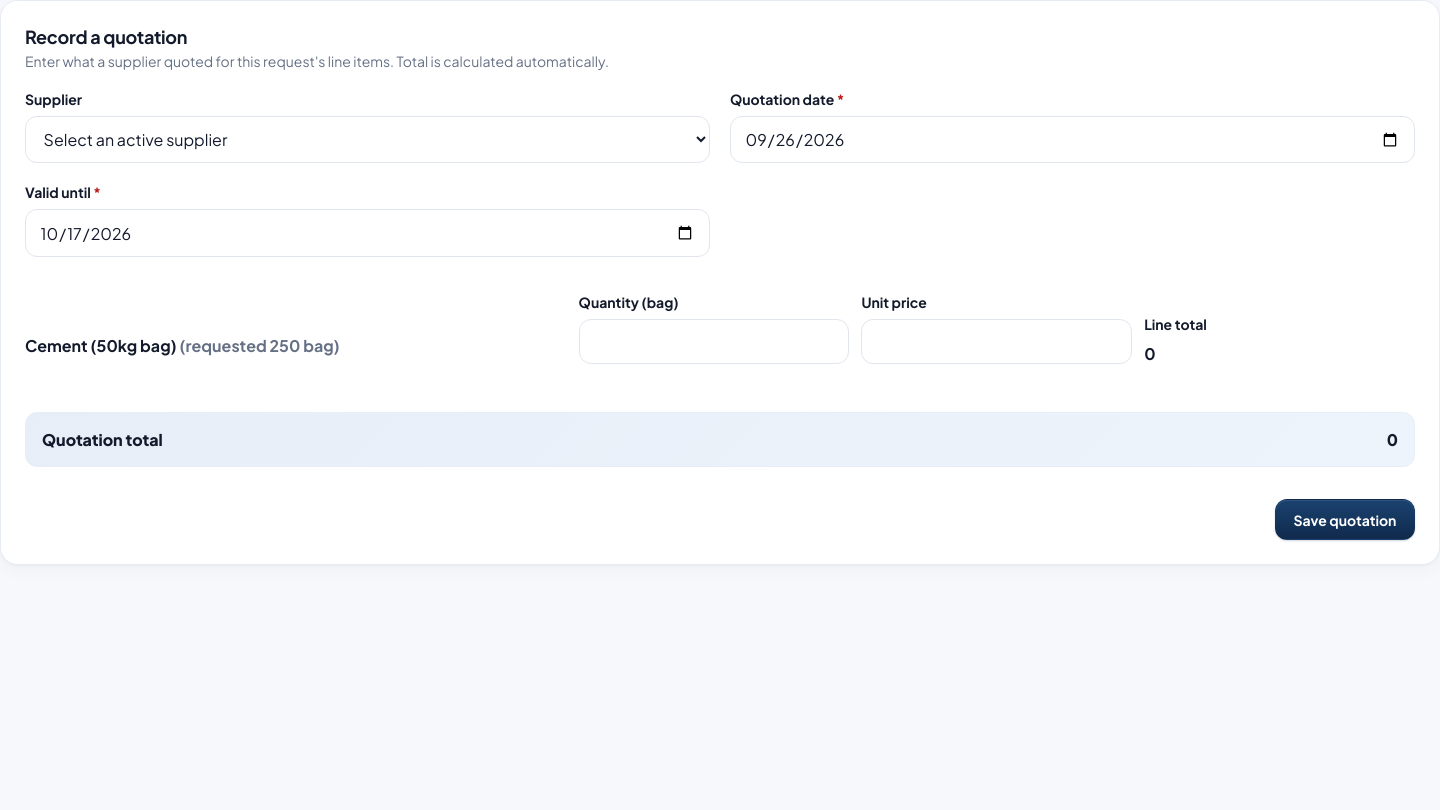
Test case: QuotationEntryForm validation › rejects a zero quantity even when a price is entered
Select "Supplier A Building Materials" in the dropdown labelled "Supplier": point(368, 140) [25,116,710,163]
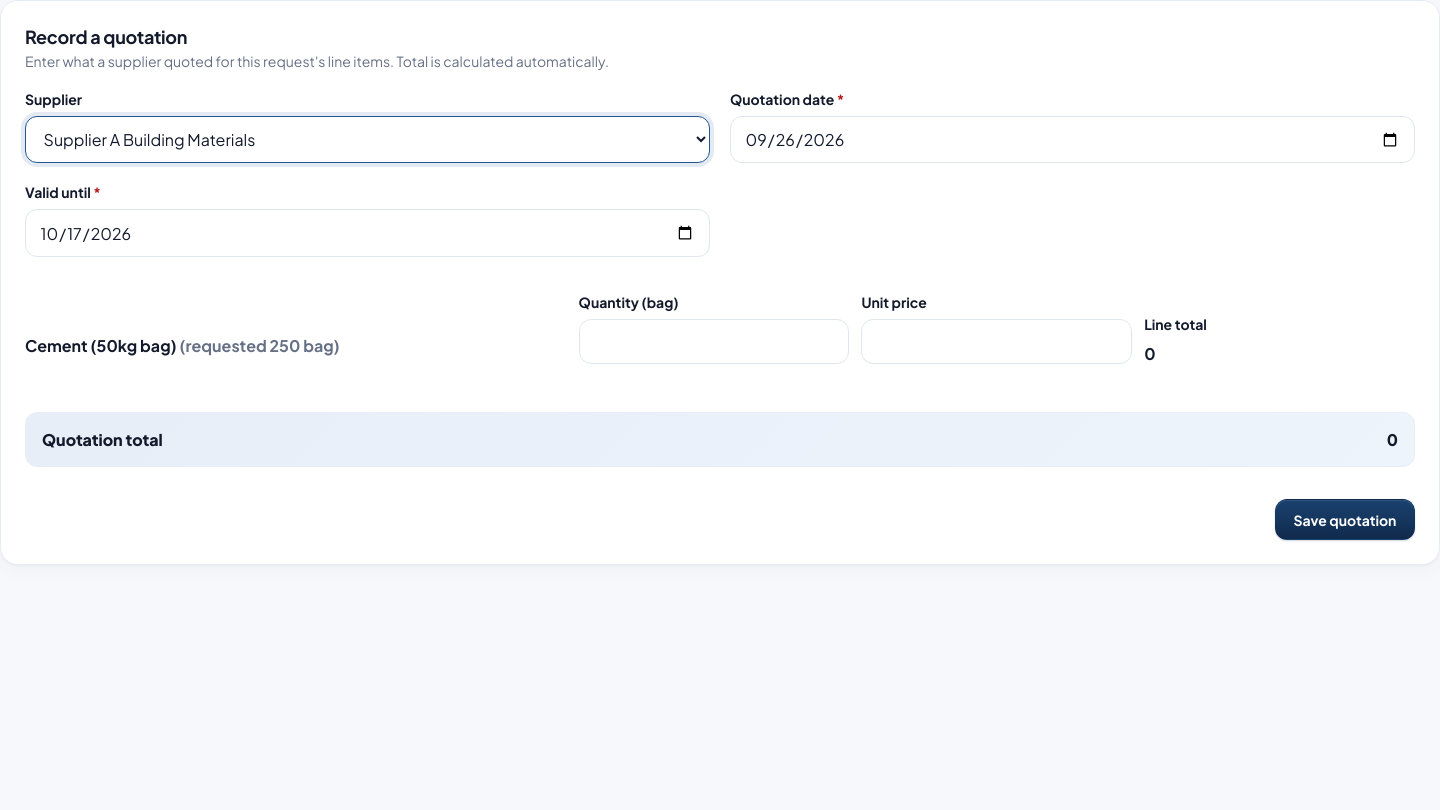
In the number field labelled "Quantity (bag)": point(714, 342) [579,319,849,364], type "0"
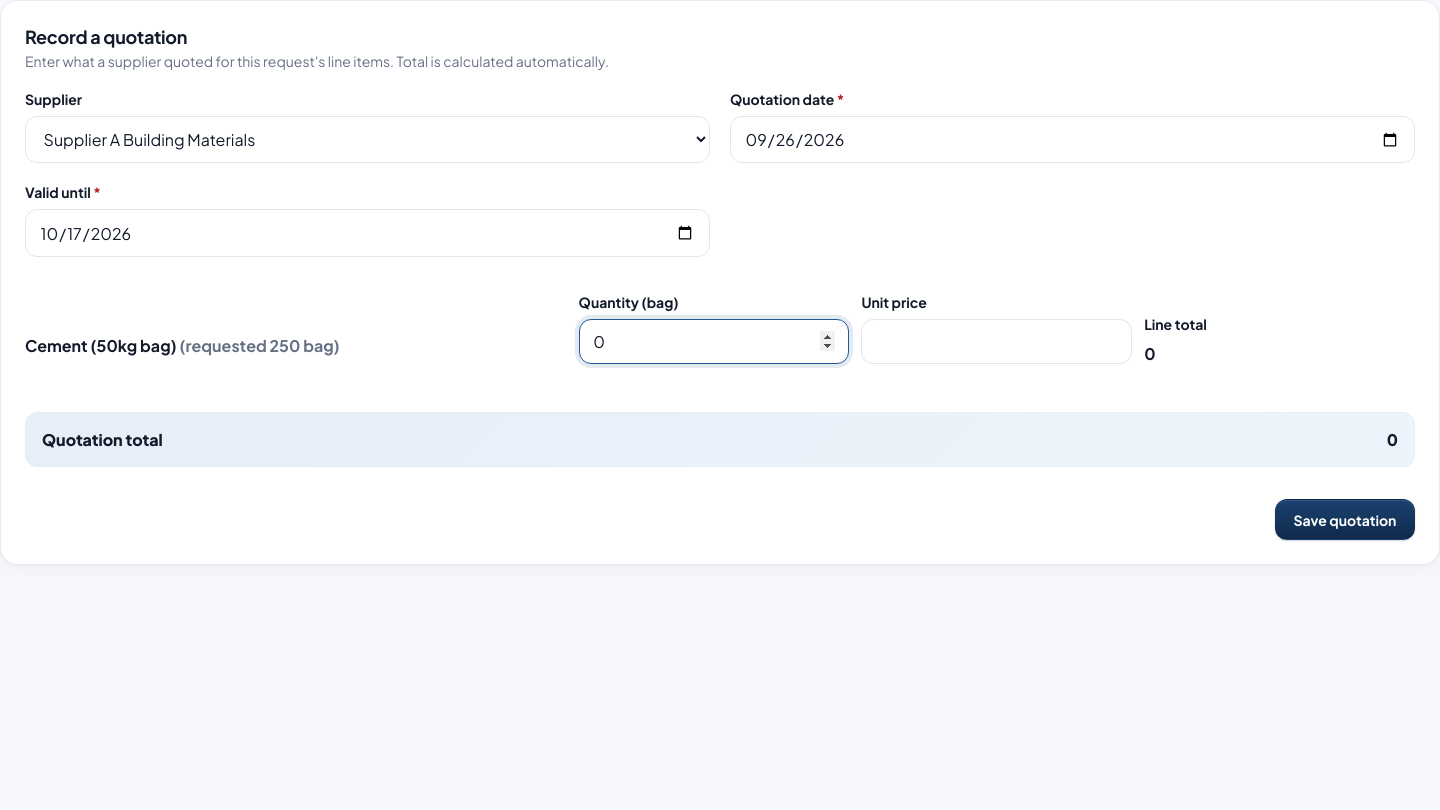
In the number field labelled "Unit price": point(997, 342) [861,319,1132,364], type "2100"
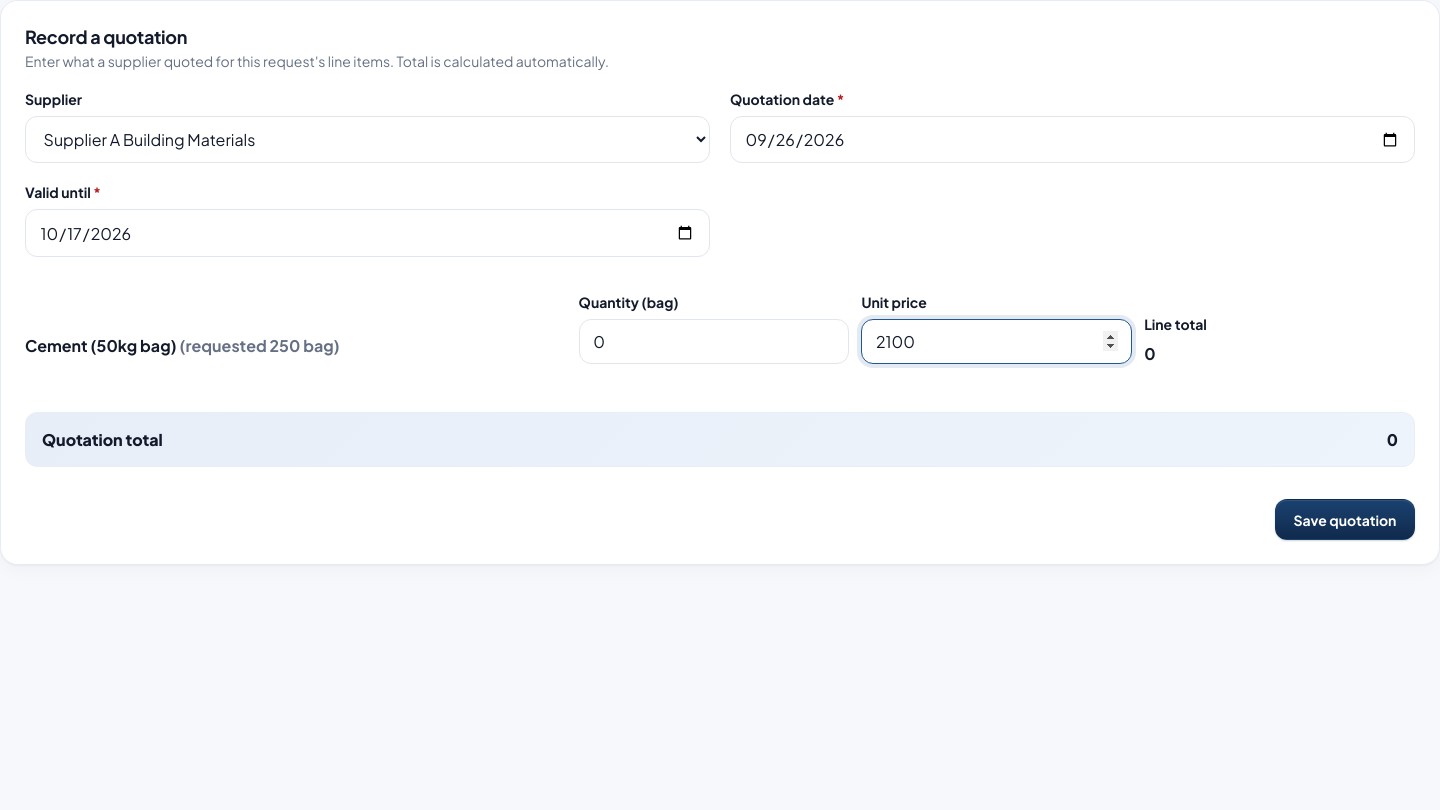
Click the button "Save quotation": point(1345, 520) [1275,499,1415,540]
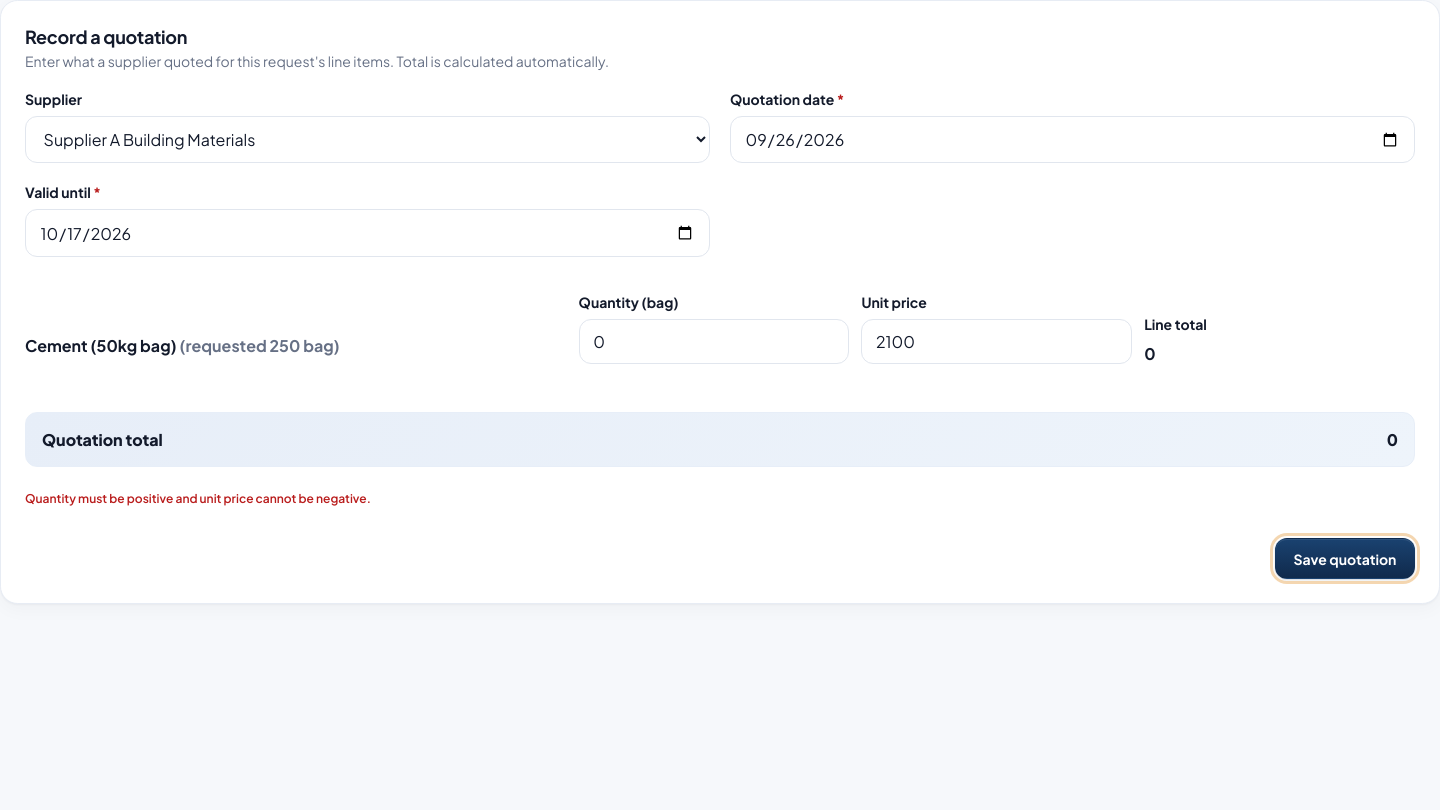
Check: the text "Quantity must be positive and unit price cannot be negative." is shown, box [25,491,371,506]
